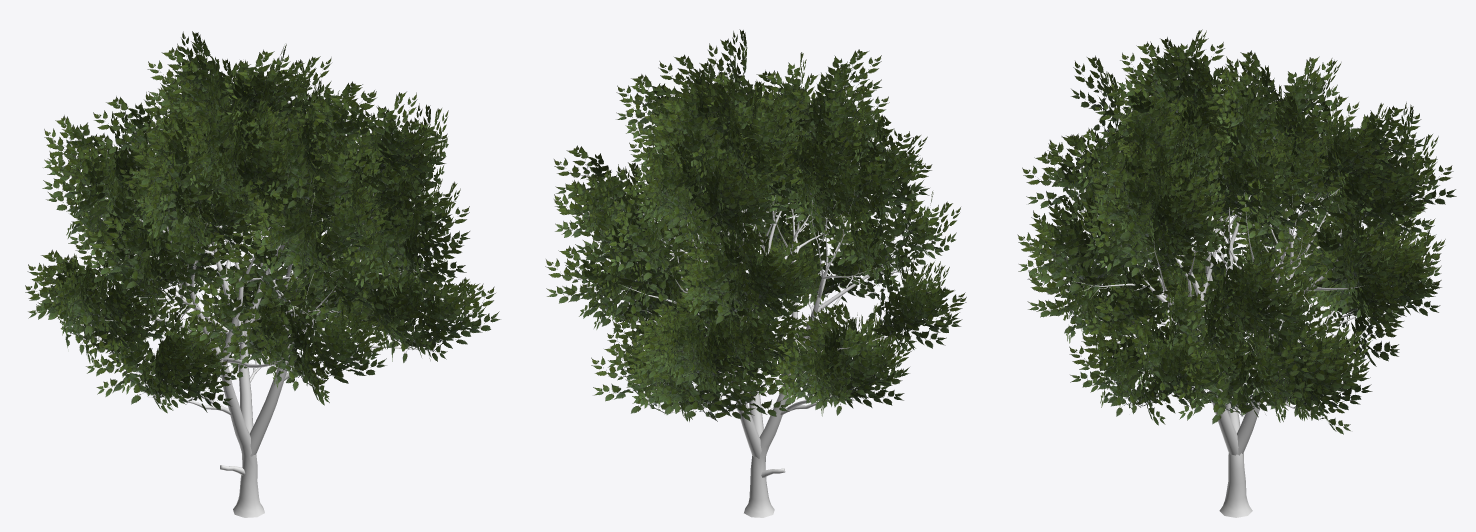
The model's file is TREE.fbx.
3 views of the same model, side by side, from view 1: azimuth 30°, elevation 25°; view 2: azimuth 150°, elevation 25°; view 3: azimuth 270°, elevation 25° (orthographic). The views are drawn at different scales.
Visible parts, largest first — view 1: tree_LOD0; view 2: tree_LOD0; view 3: tree_LOD0.
Part boxes in pixels (x1,y1,x2,y2): tree_LOD0: (25, 31, 500, 517); tree_LOD0: (545, 29, 966, 517); tree_LOD0: (1017, 29, 1456, 517).
Size of what is drawn, in the model's own units: 2295 by 2231 by 2017.
